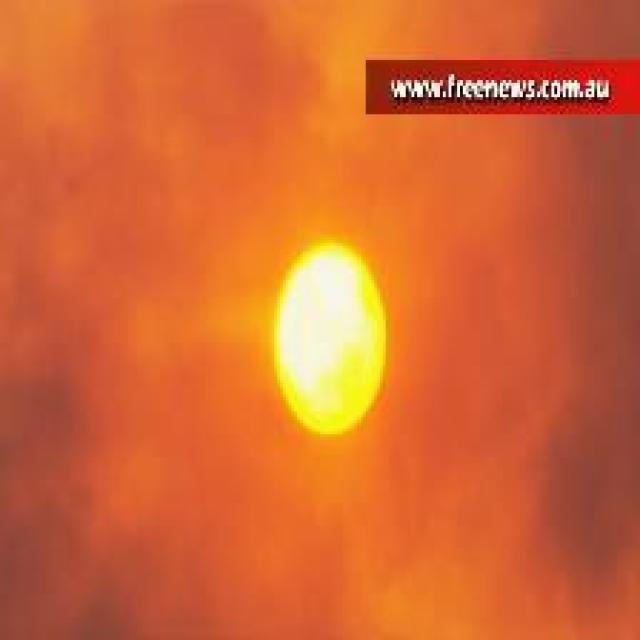other: (187, 198, 466, 492)
